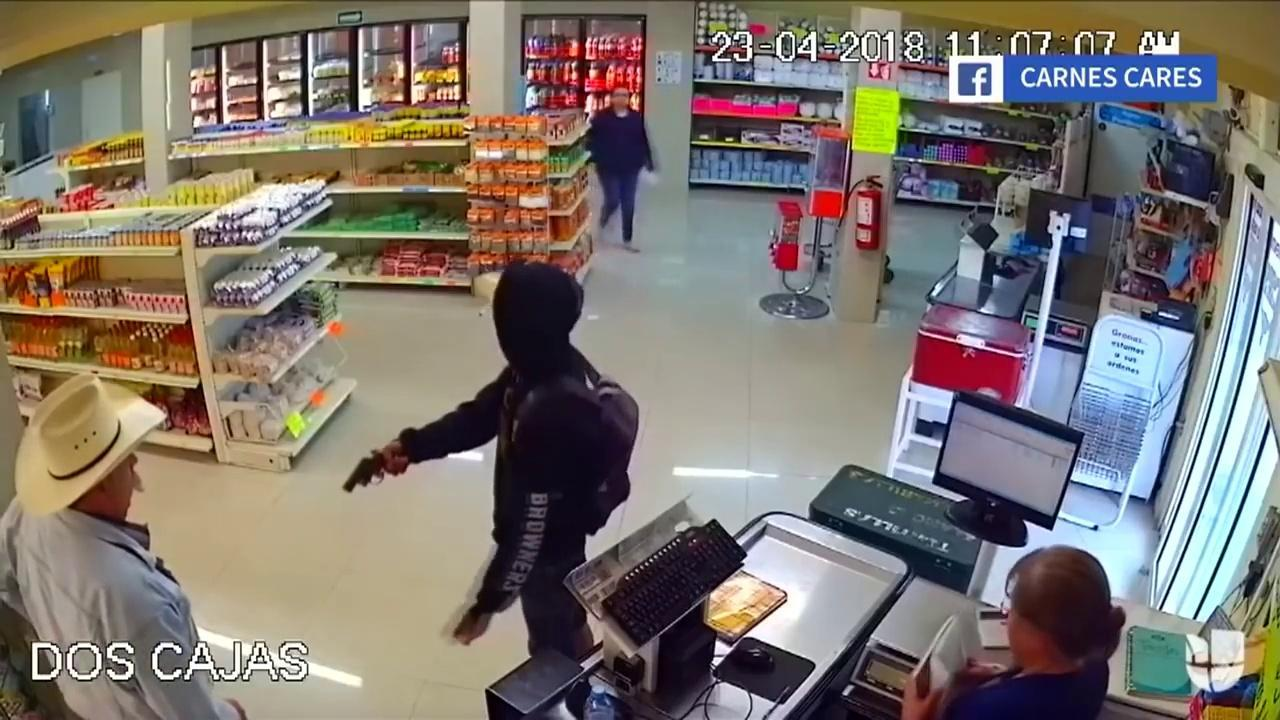Guns perspective: (336, 422, 396, 515)
